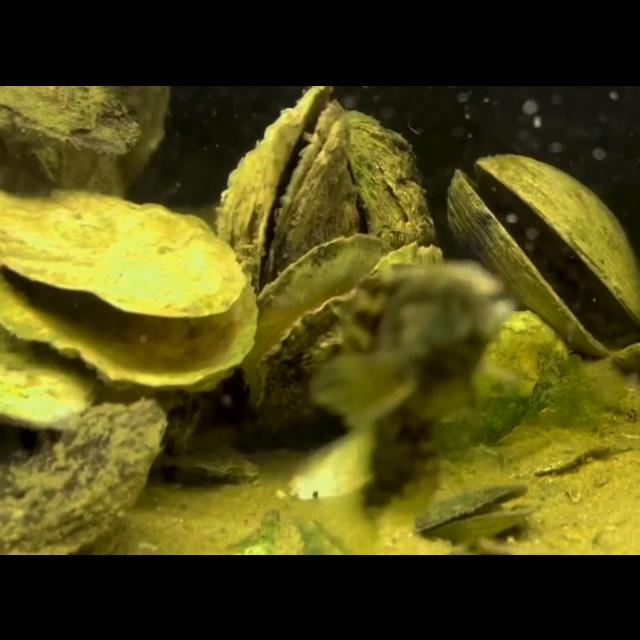Oyster-Closed: (0, 398, 172, 554), (412, 304, 570, 456), (342, 108, 436, 248), (0, 316, 104, 429), (0, 85, 142, 153)
Oyster-Open: (0, 185, 260, 388), (448, 151, 640, 359), (239, 234, 451, 413), (213, 85, 351, 295), (412, 479, 544, 546), (151, 428, 265, 488)
